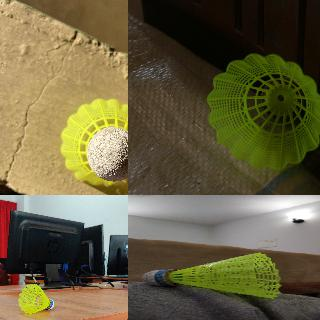shuttlecock: (207, 54, 319, 171), (141, 252, 279, 299), (59, 98, 127, 184), (18, 284, 54, 312)
